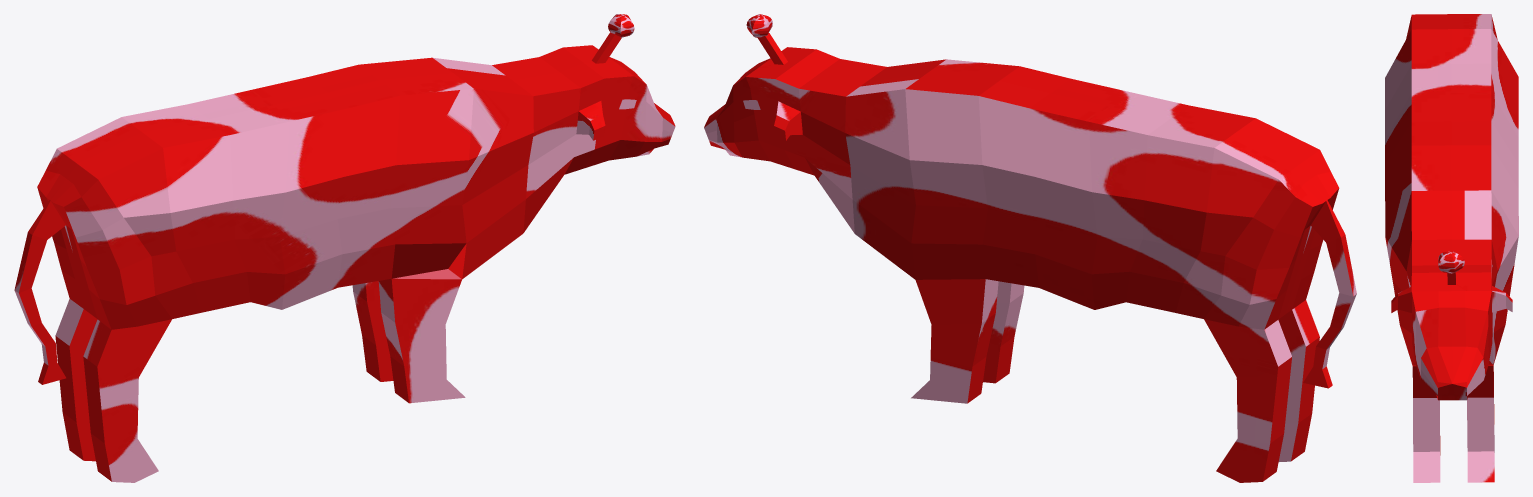
The model's file is VacaRoja.fbx.
3 renders of one model, left to right at view 1: azimuth 30°, elevation 25°; view 2: azimuth 150°, elevation 25°; view 3: azimuth 270°, elevation 25°, orthographic. The views are drawn at different scales.
Parts seen in each view (by area): view 1: Cube; view 2: Cube; view 3: Cube.
Part boxes in pixels (box(x1,y1,x2,y2)): Cube: box(14, 14, 675, 482); Cube: box(704, 14, 1356, 482); Cube: box(1385, 14, 1518, 482).
Bounding box in the file's own units: 538 × 260 × 99.73.
Materials: 1 (1 with a texture image).
